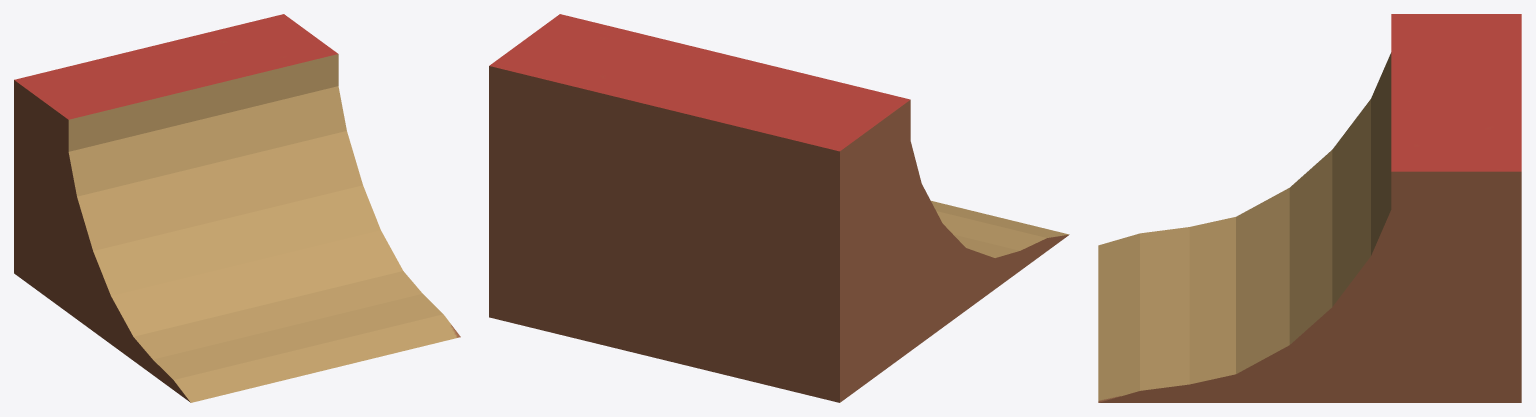
File: ramp.fbx
The picture shows the model from 3 angles, left to right: view 1: azimuth 30°, elevation 25°; view 2: azimuth 150°, elevation 25°; view 3: azimuth 270°, elevation 25°; orthographic projection. The views are drawn at different scales.
Parts seen in each view (by area): view 1: Cube; view 2: Cube; view 3: Cube.
Part boxes in pixels (x1,y1,x2,y2): Cube: [14, 14, 460, 402]; Cube: [489, 14, 1069, 402]; Cube: [1098, 14, 1521, 402].
Bounding box in the file's own units: 1400 × 959 × 1590.
Materials: 1 (1 with a texture image).
